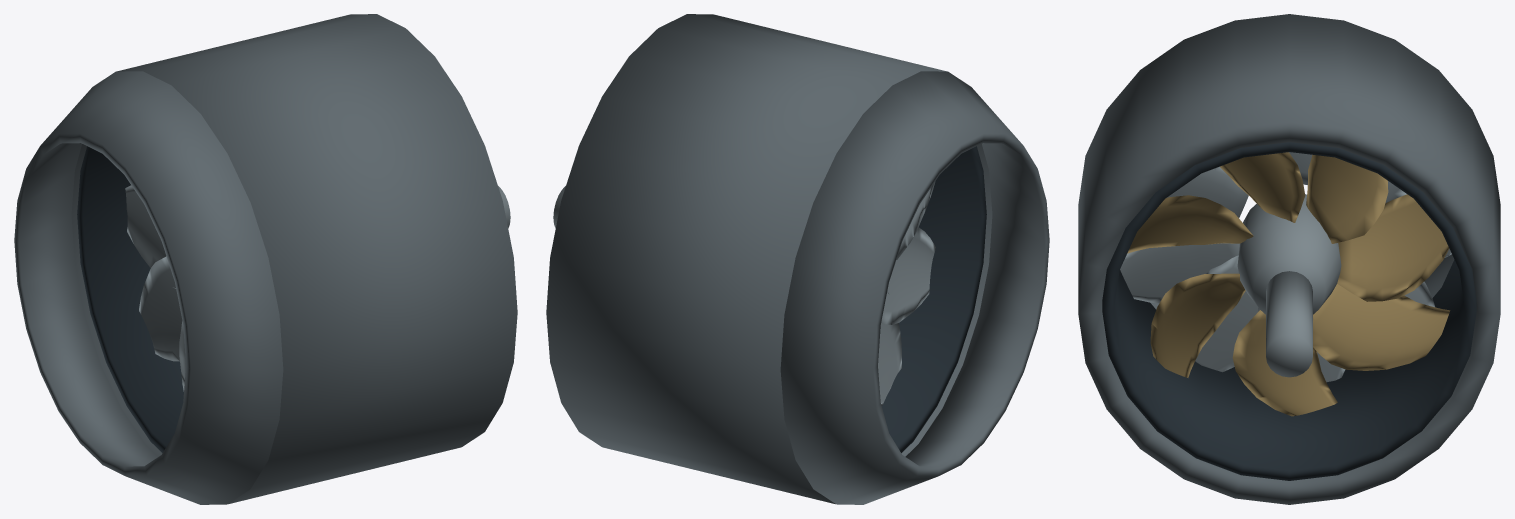
Rendered from RU_PJ_Yasen_LOD1.fbx.
3 views of the same model, side by side, from view 1: azimuth 30°, elevation 25°; view 2: azimuth 150°, elevation 25°; view 3: azimuth 270°, elevation 25° (orthographic). The views are drawn at different scales.
Visible parts, largest first — view 1: RU_PJ_Yasen_LOD1_Housing.001, RU_PJ_Yasen_LOD1_Nozzle.001, RU_PJ_Yasen_LOD1_Lining.001, RU_PJ_Yasen_LOD1_Stator_08.001, RU_PJ_Yasen_LOD1_Stator_00.001; view 2: RU_PJ_Yasen_LOD1_Housing.001, RU_PJ_Yasen_LOD1_Nozzle.001, RU_PJ_Yasen_LOD1_Lining.001, RU_PJ_Yasen_LOD1_Stator_05.001, RU_PJ_Yasen_LOD1_Stator_06.001, RU_PJ_Yasen_LOD1_Stator_04.001; view 3: RU_PJ_Yasen_LOD1_Housing.001, RU_PJ_Yasen_LOD1_Lining.001, RU_PJ_Yasen_LOD1_Rotor_06.001, RU_PJ_Yasen_LOD1_Rotor_00.001, RU_PJ_Yasen_LOD1_Hub.001, RU_PJ_Yasen_LOD1_Rotor_04.001, RU_PJ_Yasen_LOD1_Rotor_01.001, RU_PJ_Yasen_LOD1_Rotor_05.001, RU_PJ_Yasen_LOD1_Shaft.001, RU_PJ_Yasen_LOD1_Rotor_03.001, RU_PJ_Yasen_LOD1_Stator_05.001, RU_PJ_Yasen_LOD1_Rotor_02.001 (+3 smaller).
Part boxes in pixels (x1,y1,x2,y2): RU_PJ_Yasen_LOD1_Housing.001: (71,14,517,504); RU_PJ_Yasen_LOD1_Nozzle.001: (14,71,283,504); RU_PJ_Yasen_LOD1_Lining.001: (77,146,183,452); RU_PJ_Yasen_LOD1_Stator_08.001: (139,256,182,361); RU_PJ_Yasen_LOD1_Stator_00.001: (125,185,175,288); RU_PJ_Yasen_LOD1_Housing.001: (546,14,992,504); RU_PJ_Yasen_LOD1_Nozzle.001: (780,71,1049,504); RU_PJ_Yasen_LOD1_Lining.001: (881,146,986,452); RU_PJ_Yasen_LOD1_Stator_05.001: (881,227,935,324); RU_PJ_Yasen_LOD1_Stator_06.001: (878,291,901,405); RU_PJ_Yasen_LOD1_Stator_04.001: (896,181,935,259); RU_PJ_Yasen_LOD1_Housing.001: (1078,14,1500,504); RU_PJ_Yasen_LOD1_Lining.001: (1102,142,1476,480); RU_PJ_Yasen_LOD1_Rotor_06.001: (1313,284,1450,370); RU_PJ_Yasen_LOD1_Rotor_00.001: (1337,194,1449,301); RU_PJ_Yasen_LOD1_Hub.001: (1237,194,1341,314); RU_PJ_Yasen_LOD1_Rotor_04.001: (1150,273,1245,377); RU_PJ_Yasen_LOD1_Rotor_01.001: (1306,154,1388,243); RU_PJ_Yasen_LOD1_Rotor_05.001: (1232,310,1337,416); RU_PJ_Yasen_LOD1_Shaft.001: (1266,271,1312,377); RU_PJ_Yasen_LOD1_Rotor_03.001: (1127,195,1253,253); RU_PJ_Yasen_LOD1_Stator_05.001: (1120,243,1239,303); RU_PJ_Yasen_LOD1_Rotor_02.001: (1220,152,1305,222).
Bounding box in the file's own units: 603 × 590 × 590.
